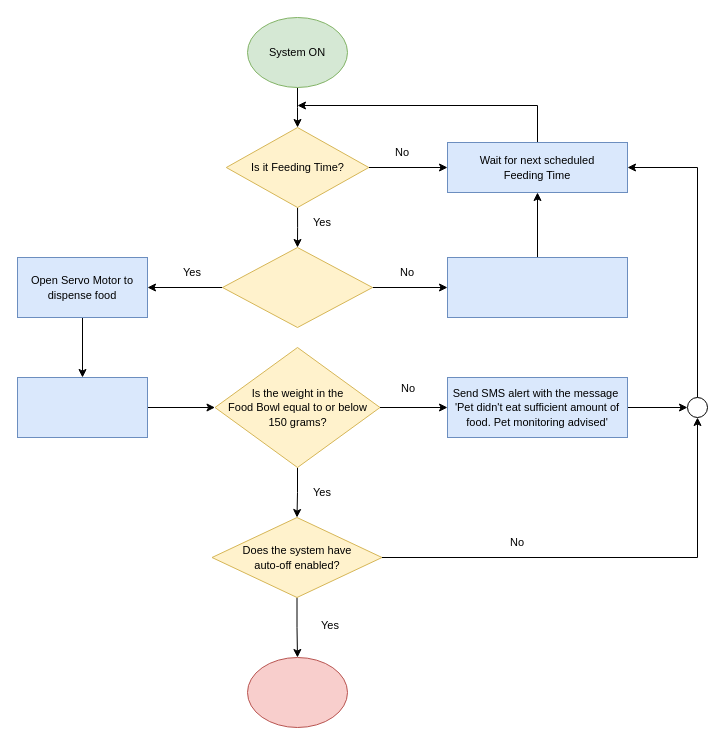
Image size: 725x745. Some labels were removed from this diagram. Each missing label, with the centre of its shape:
"Is the Food Storage level above 15 cm?" goes at (x=297, y=287).
"Send SMS alert with the message 'Food Level low. Please fill tank.'" goes at (x=537, y=287).
"System OFF" goes at (x=297, y=692).
"Wait 10 minutes" goes at (x=82, y=407).
